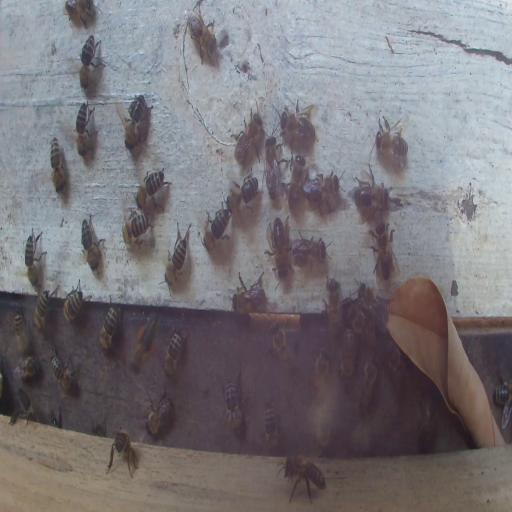bee: (277, 452, 327, 503), (374, 114, 409, 166), (355, 164, 389, 217), (369, 220, 398, 281), (234, 104, 264, 162), (131, 316, 159, 378), (279, 98, 318, 142), (188, 8, 218, 65), (134, 168, 172, 212), (165, 222, 192, 283), (121, 95, 151, 149), (78, 34, 105, 92), (347, 297, 376, 351), (268, 206, 290, 277), (107, 428, 138, 478), (358, 279, 389, 329), (304, 169, 340, 212), (385, 334, 410, 394), (230, 271, 264, 315), (73, 100, 97, 162), (270, 322, 296, 378), (24, 226, 46, 292), (290, 231, 330, 267), (201, 204, 231, 251), (145, 388, 174, 436), (222, 374, 244, 434), (62, 278, 90, 325), (81, 216, 104, 273), (417, 399, 441, 453), (50, 348, 78, 394), (162, 328, 187, 379), (98, 299, 120, 353), (286, 154, 307, 210), (122, 209, 152, 246), (263, 134, 280, 199), (226, 176, 258, 209), (358, 358, 377, 412), (339, 325, 357, 381), (325, 274, 342, 330), (49, 135, 65, 194), (311, 345, 328, 400), (11, 387, 35, 425), (63, 0, 99, 23), (264, 400, 279, 448), (34, 288, 50, 331), (14, 308, 28, 353), (13, 355, 38, 380), (492, 384, 511, 409)
